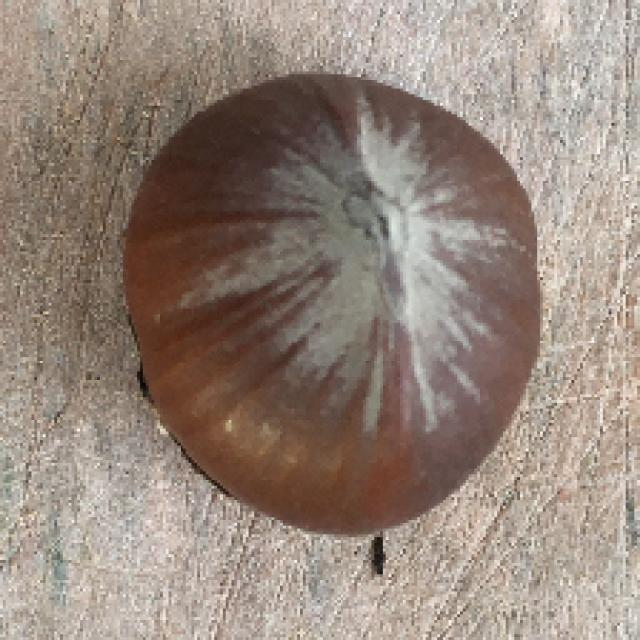qualityHazelnut: (106, 68, 542, 534)
